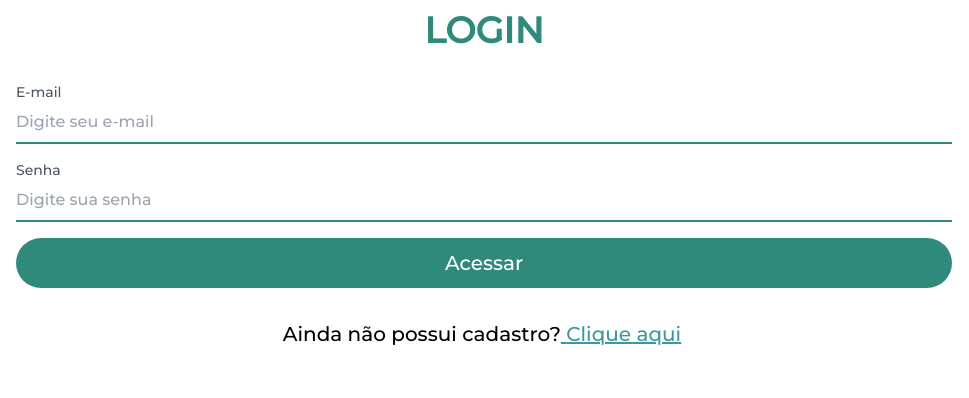
Scenario: Login component › deve lidar com erro de login
In the field labelled "E-mail": (484, 123) [16, 102, 952, 144], type "testUser"
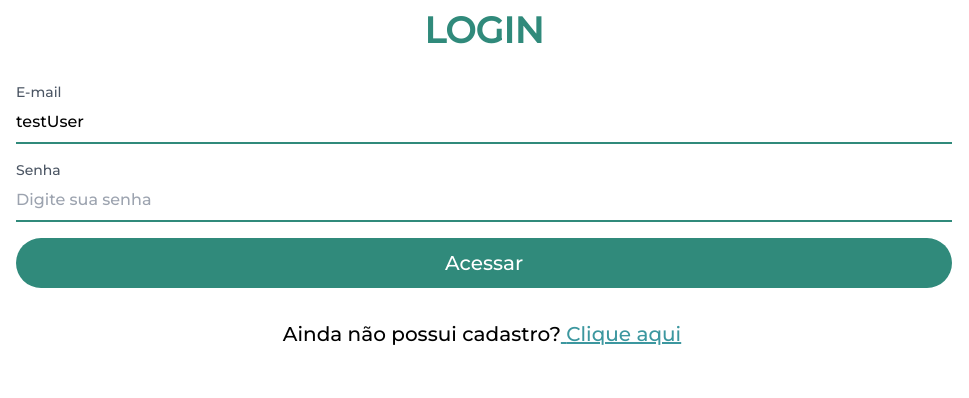
In the password field labelled "Senha": (484, 201) [16, 180, 952, 222], type "testPassword"
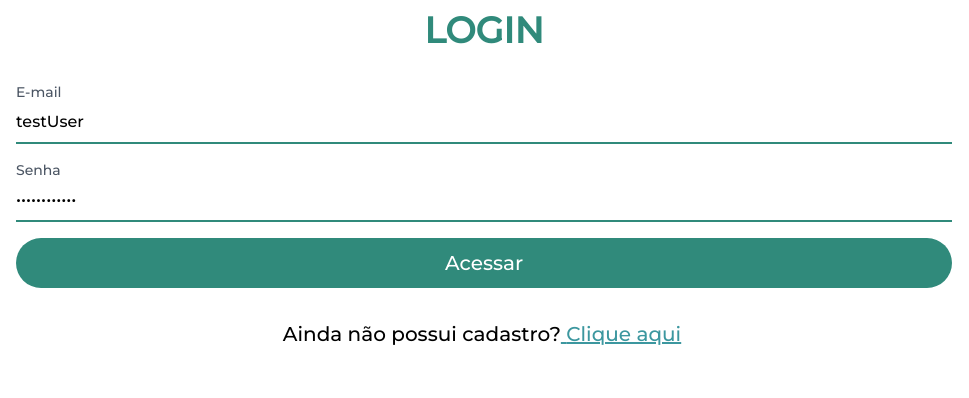
Click the button "Acessar": (484, 263) [16, 238, 952, 288]
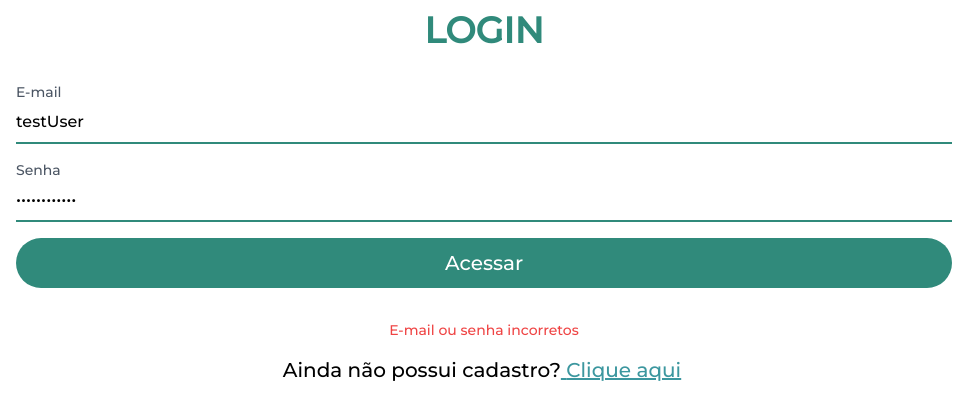
Expected: the text "E-mail ou senha incorretos" is shown, [389, 320, 579, 340]
